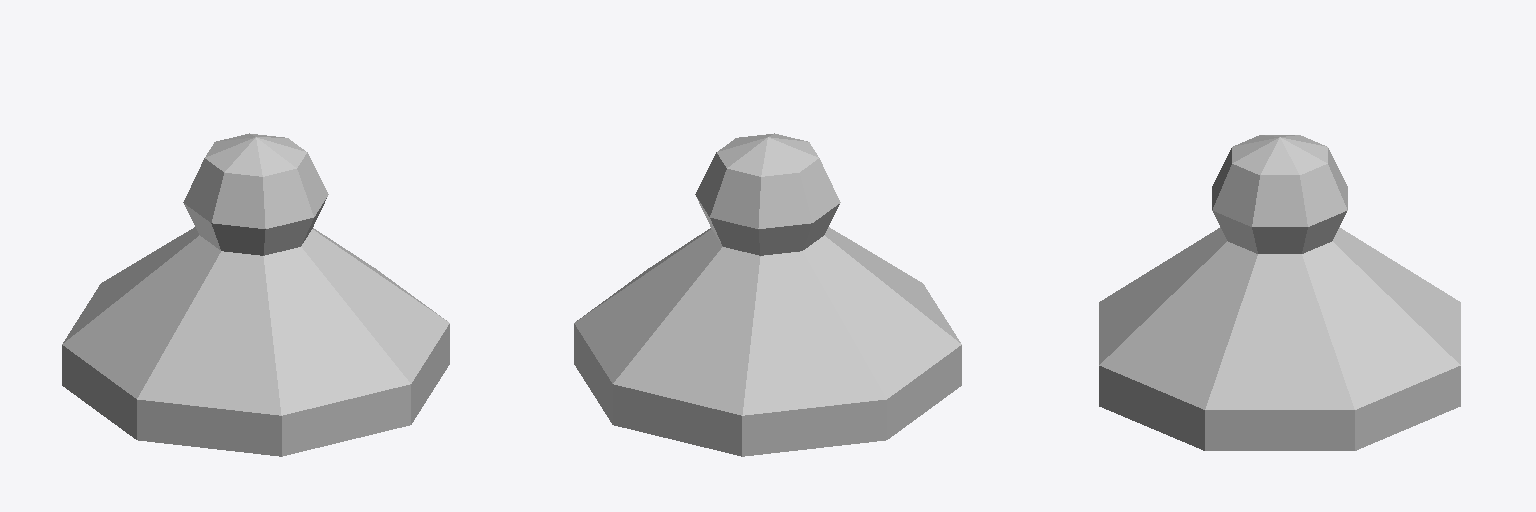
Rendered from LIGHT_LAMP_SHADE.obj.
3 renders of one model, left to right at view 1: azimuth 30°, elevation 25°; view 2: azimuth 150°, elevation 25°; view 3: azimuth 270°, elevation 25°, orthographic.
Visible parts, largest first — view 1: cylinder, sphere; view 2: cylinder, sphere; view 3: cylinder, sphere.
Boxes of the visible parts, <box> form: cylinder: <box>62,227,449,456</box>; sphere: <box>183,133,328,255</box>; cylinder: <box>574,227,961,456</box>; sphere: <box>695,133,840,255</box>; cylinder: <box>1099,227,1460,450</box>; sphere: <box>1212,135,1347,253</box>.
Bounding box in the file's own units: 1 × 0.725 × 1.